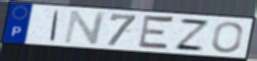7: (105, 13, 139, 47)
E: (136, 13, 177, 53)
I: (49, 9, 62, 42)
N: (62, 9, 108, 45)
O: (210, 21, 245, 54)
Z: (172, 17, 212, 53)
